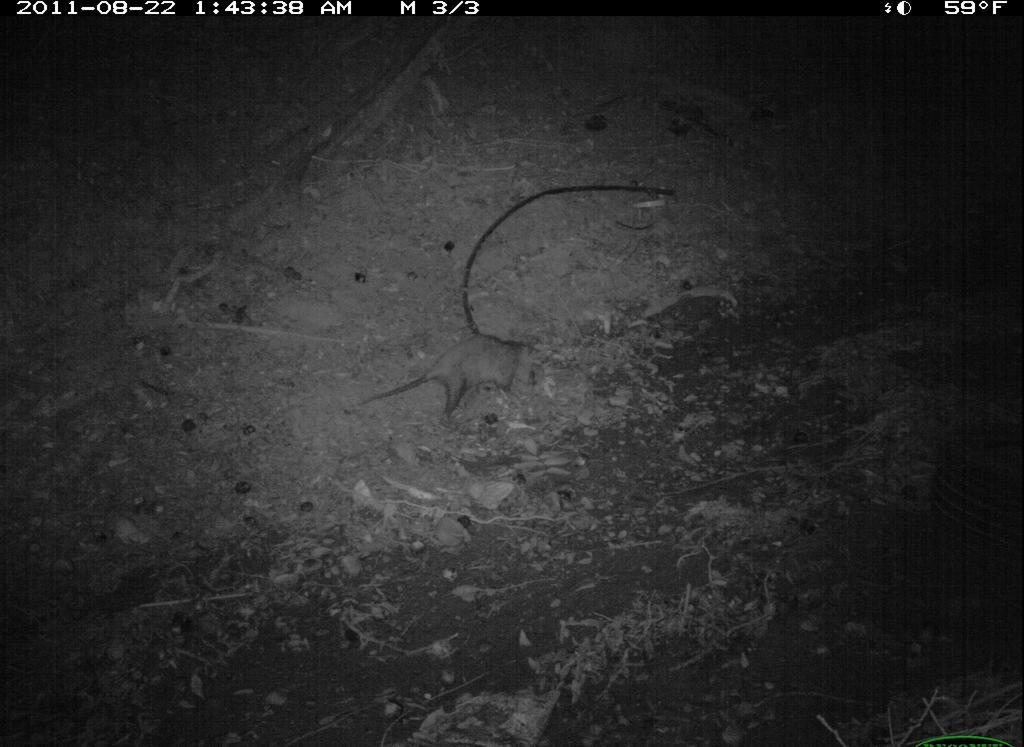opossum: (363, 328, 550, 441)
